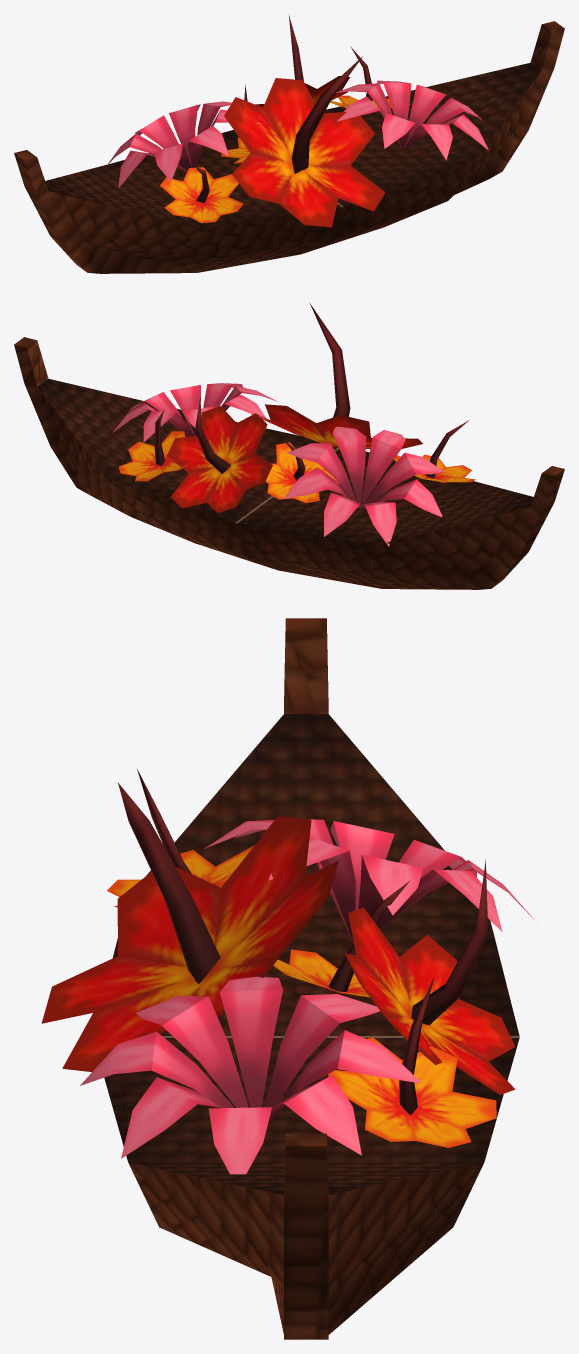
File: FlowerBoat_01.FBX
3 views of the same model, one above another, from view 1: azimuth 30°, elevation 25°; view 2: azimuth 150°, elevation 25°; view 3: azimuth 270°, elevation 25° (orthographic). The views are drawn at different scales.
Visible parts, largest first — view 1: FlowerBoat_01; view 2: FlowerBoat_01; view 3: FlowerBoat_01.
Boxes of the visible parts, x1=… form: FlowerBoat_01: x1=14, y1=14, x2=564, y2=273; FlowerBoat_01: x1=14, y1=303, x2=564, y2=589; FlowerBoat_01: x1=41, y1=618, x2=536, y2=1339.
Size of the model in its own units: 0.7547 by 0.2998 by 0.2922.
